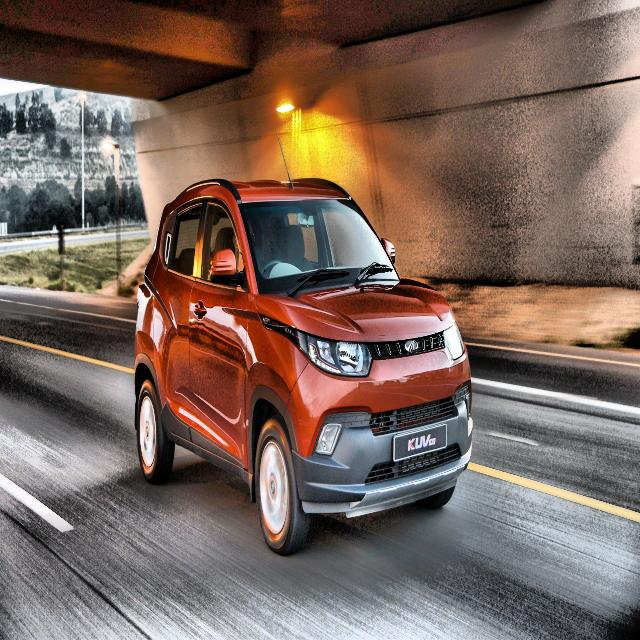Car: (135, 179, 472, 554)
